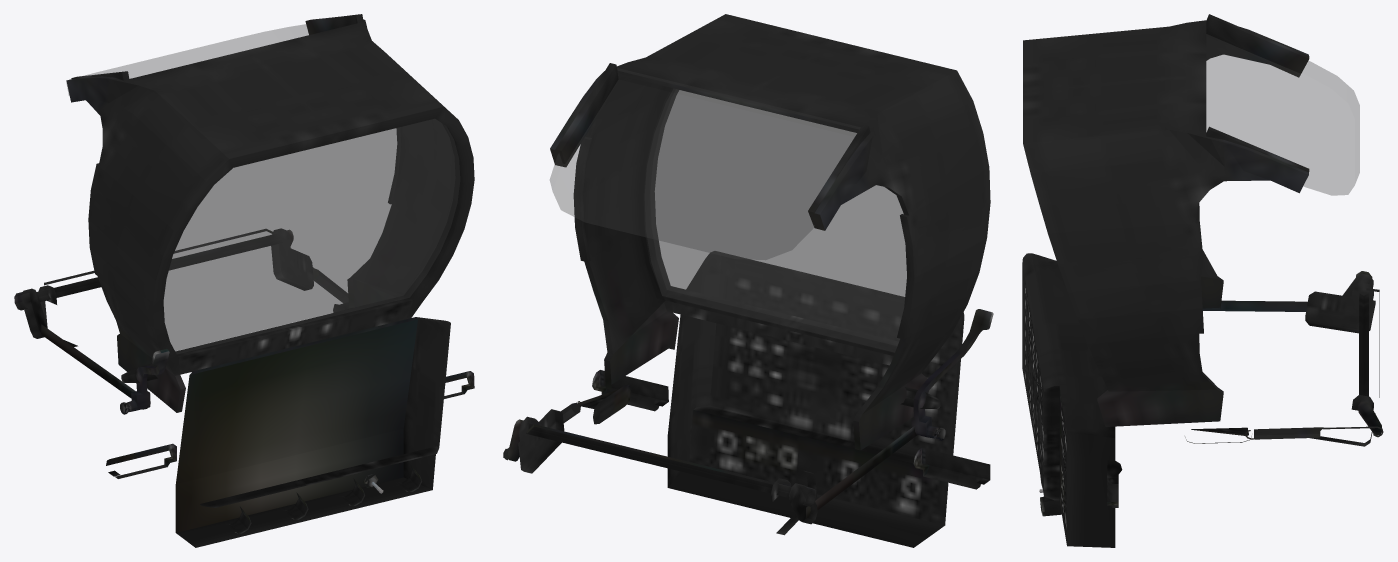
The model's file is hud15.glb.
3 views of the same model, side by side, from view 1: azimuth 30°, elevation 25°; view 2: azimuth 150°, elevation 25°; view 3: azimuth 270°, elevation 25° (orthographic). The views are drawn at different scales.
Parts seen in each view (by area): view 1: O_hud15__Frame, O_hud15__Glass; view 2: O_hud15__Frame, O_hud15__Glass; view 3: O_hud15__Frame, O_hud15__Glass.
Boxes of the visible parts, bbox=[...] form: O_hud15__Frame: bbox=[14, 14, 474, 547]; O_hud15__Glass: bbox=[66, 24, 459, 354]; O_hud15__Frame: bbox=[503, 14, 993, 547]; O_hud15__Glass: bbox=[550, 68, 906, 352]; O_hud15__Frame: bbox=[1022, 14, 1383, 547]; O_hud15__Glass: bbox=[1206, 34, 1359, 195].
Size of the model in its own units: 0.7906 by 0.8937 by 0.694.
Materials: 2 (1 with a texture image).
